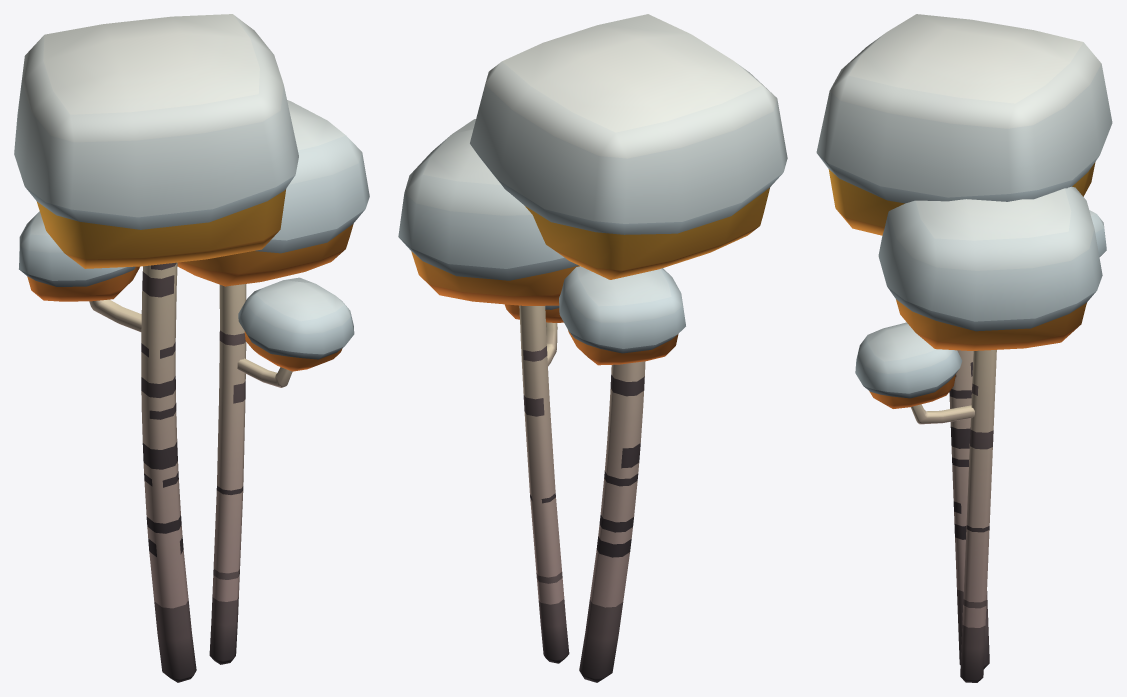
The model's file is birch_tree_col2_06_snow.fbx.
3 renders of one model, left to right at view 1: azimuth 30°, elevation 25°; view 2: azimuth 150°, elevation 25°; view 3: azimuth 270°, elevation 25°, orthographic. The views are drawn at different scales.
Parts seen in each view (by area): view 1: birch_tree_SC_col2_06_snow; view 2: birch_tree_SC_col2_06_snow; view 3: birch_tree_SC_col2_06_snow.
Part boxes in pixels (left/top/right/bottom): birch_tree_SC_col2_06_snow: left=14, top=14, right=369, bottom=682; birch_tree_SC_col2_06_snow: left=398, top=14, right=787, bottom=682; birch_tree_SC_col2_06_snow: left=816, top=14, right=1112, bottom=682.
Size of the model in its own units: 389 by 709 by 313.
